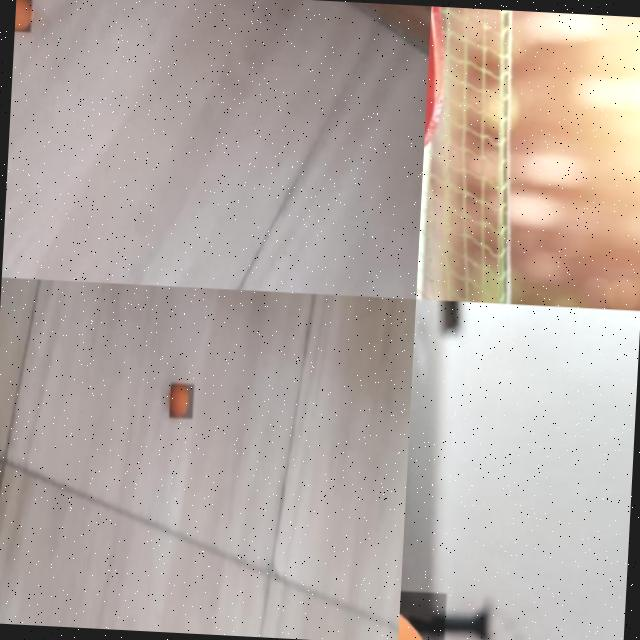ping-pong-ball: (168, 383, 194, 419), (14, 0, 32, 33)
